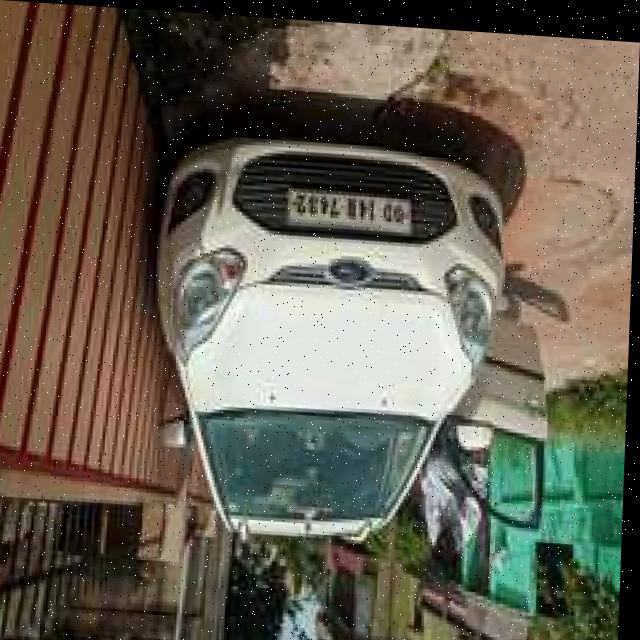plate: (287, 180, 416, 231)
